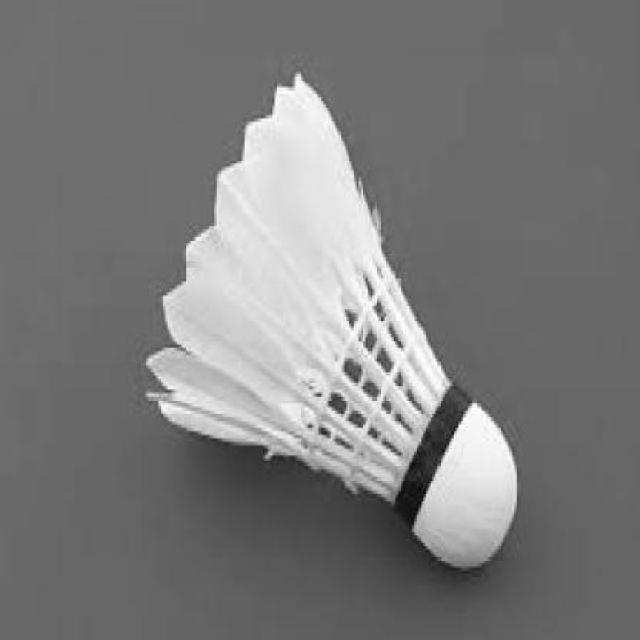Shuttlecock: (147, 67, 517, 566)
